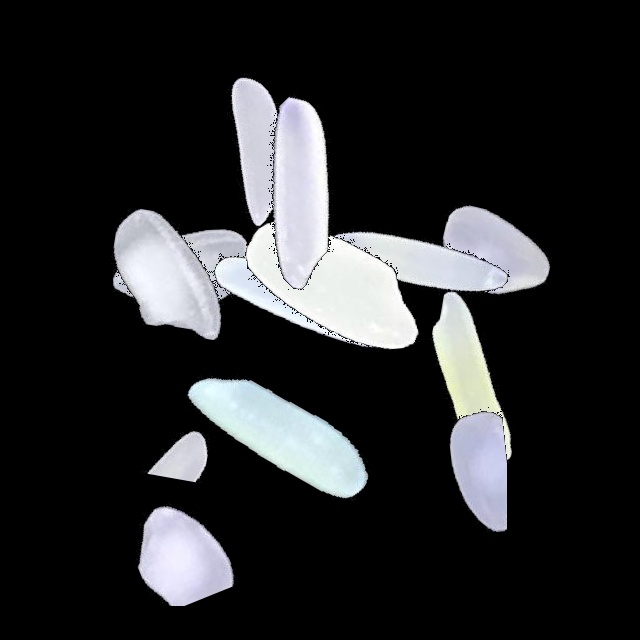Broken: (40, 438, 290, 606), (365, 351, 507, 601), (115, 296, 225, 546), (342, 381, 592, 465), (37, 10, 116, 260)
Full: (372, 127, 622, 377), (294, 136, 544, 386), (350, 253, 600, 503), (153, 307, 403, 557), (54, 149, 304, 399), (184, 176, 434, 426), (207, 161, 457, 411), (127, 25, 377, 275), (42, 149, 292, 399), (172, 64, 422, 314)
